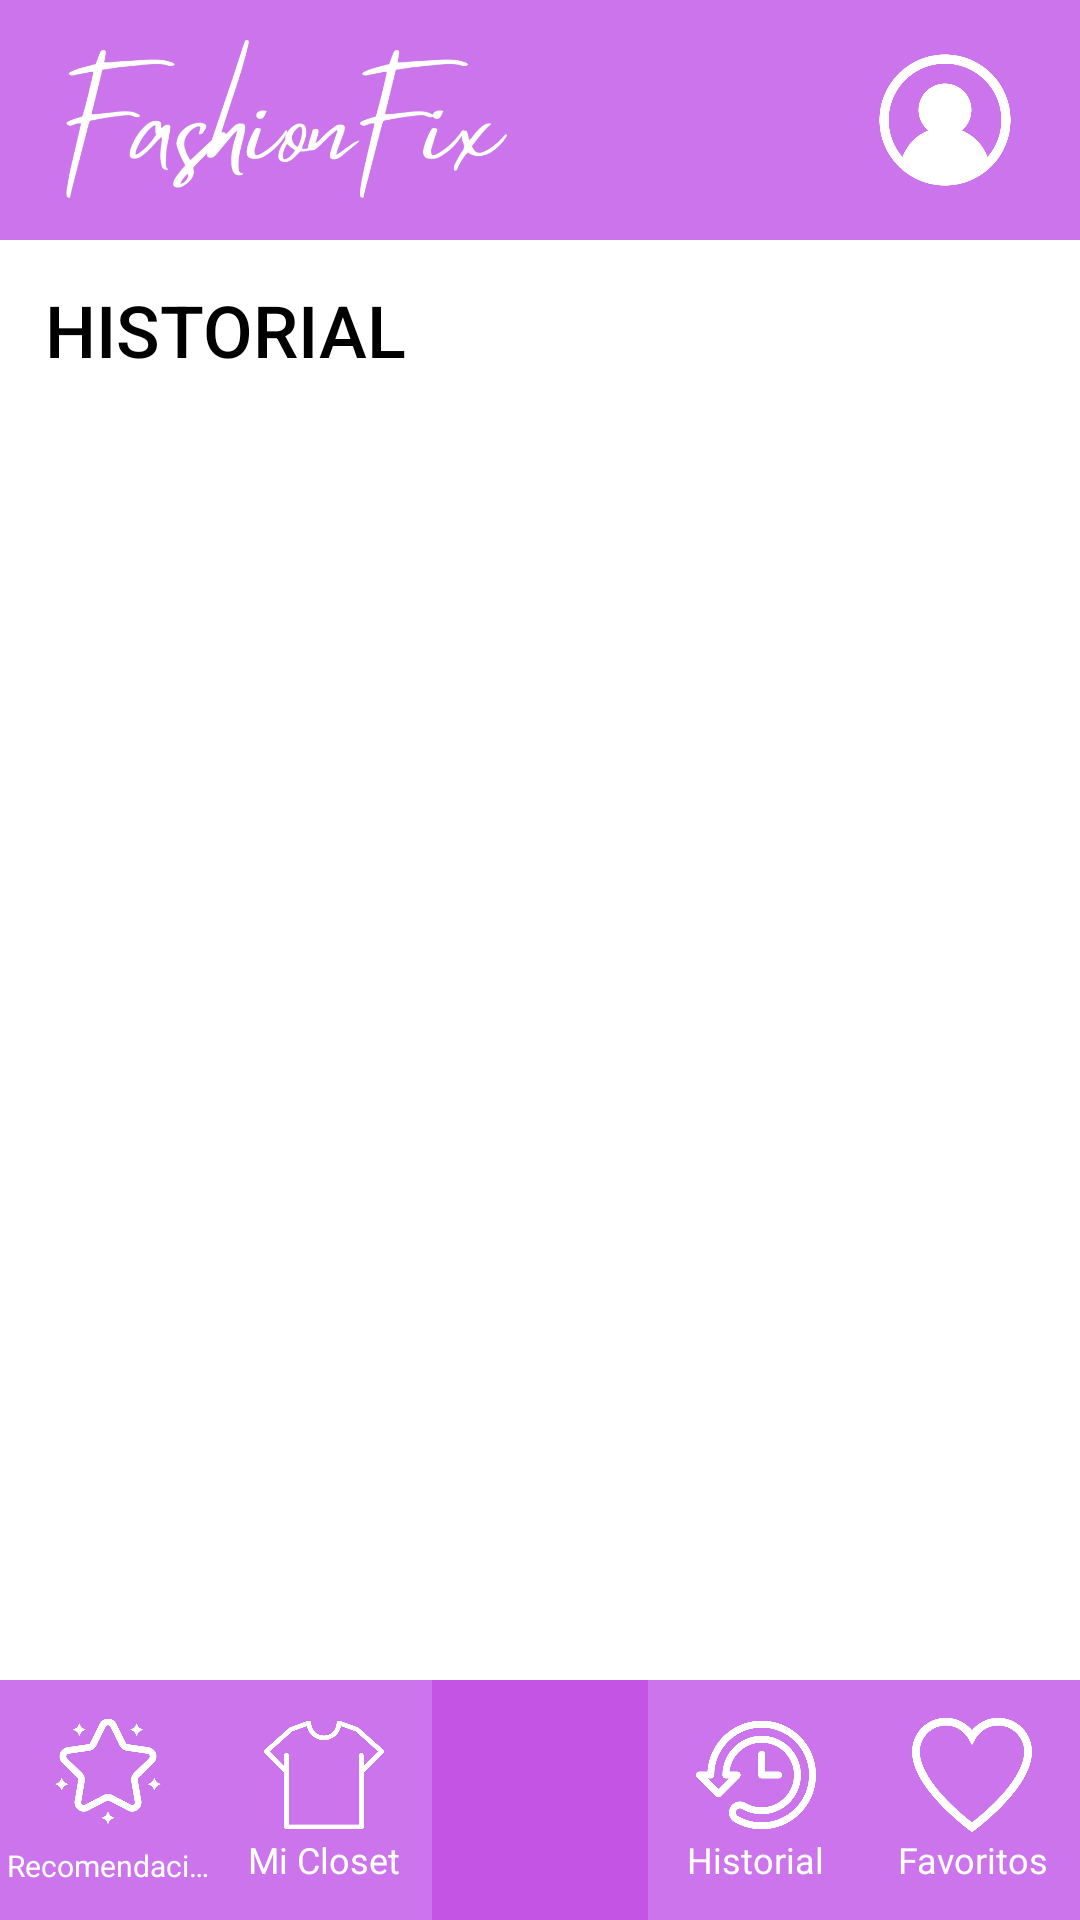

Point at icon controls on the screen. Image size 1080px x 1920px, points as (x=x, y=y).
user: (x=945, y=120)
